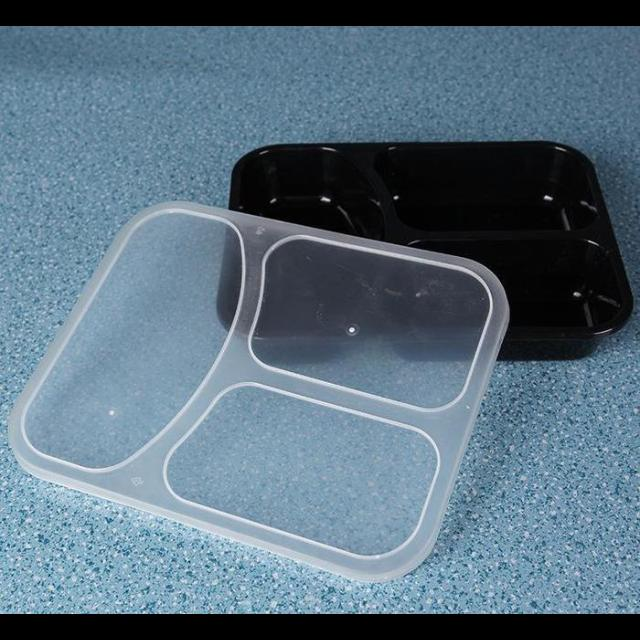plastic_box: (6, 140, 634, 580)
